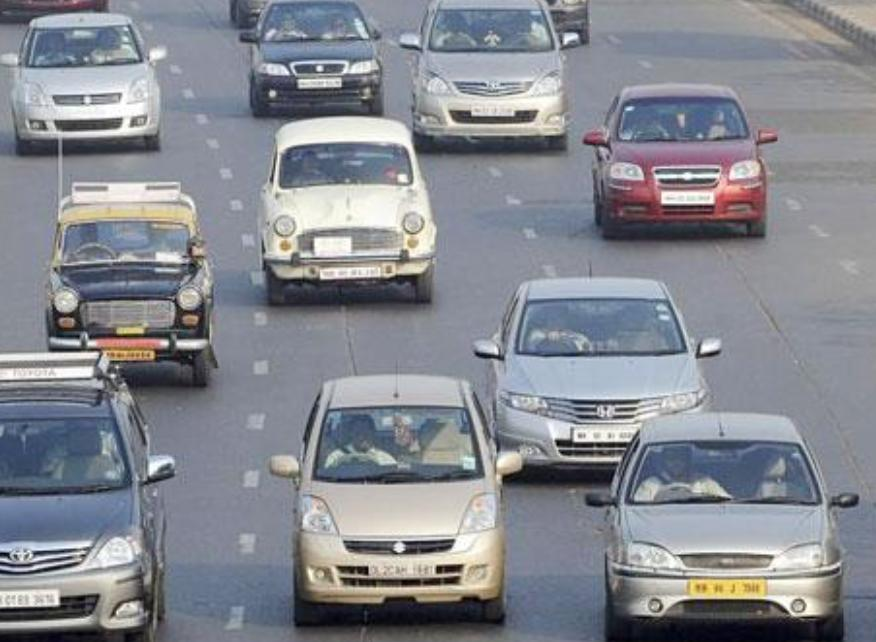car: (587, 415, 867, 640), (267, 374, 511, 613), (0, 354, 169, 637), (241, 116, 427, 315), (587, 81, 779, 238), (415, 0, 579, 155), (9, 13, 169, 148), (238, 0, 396, 102)
